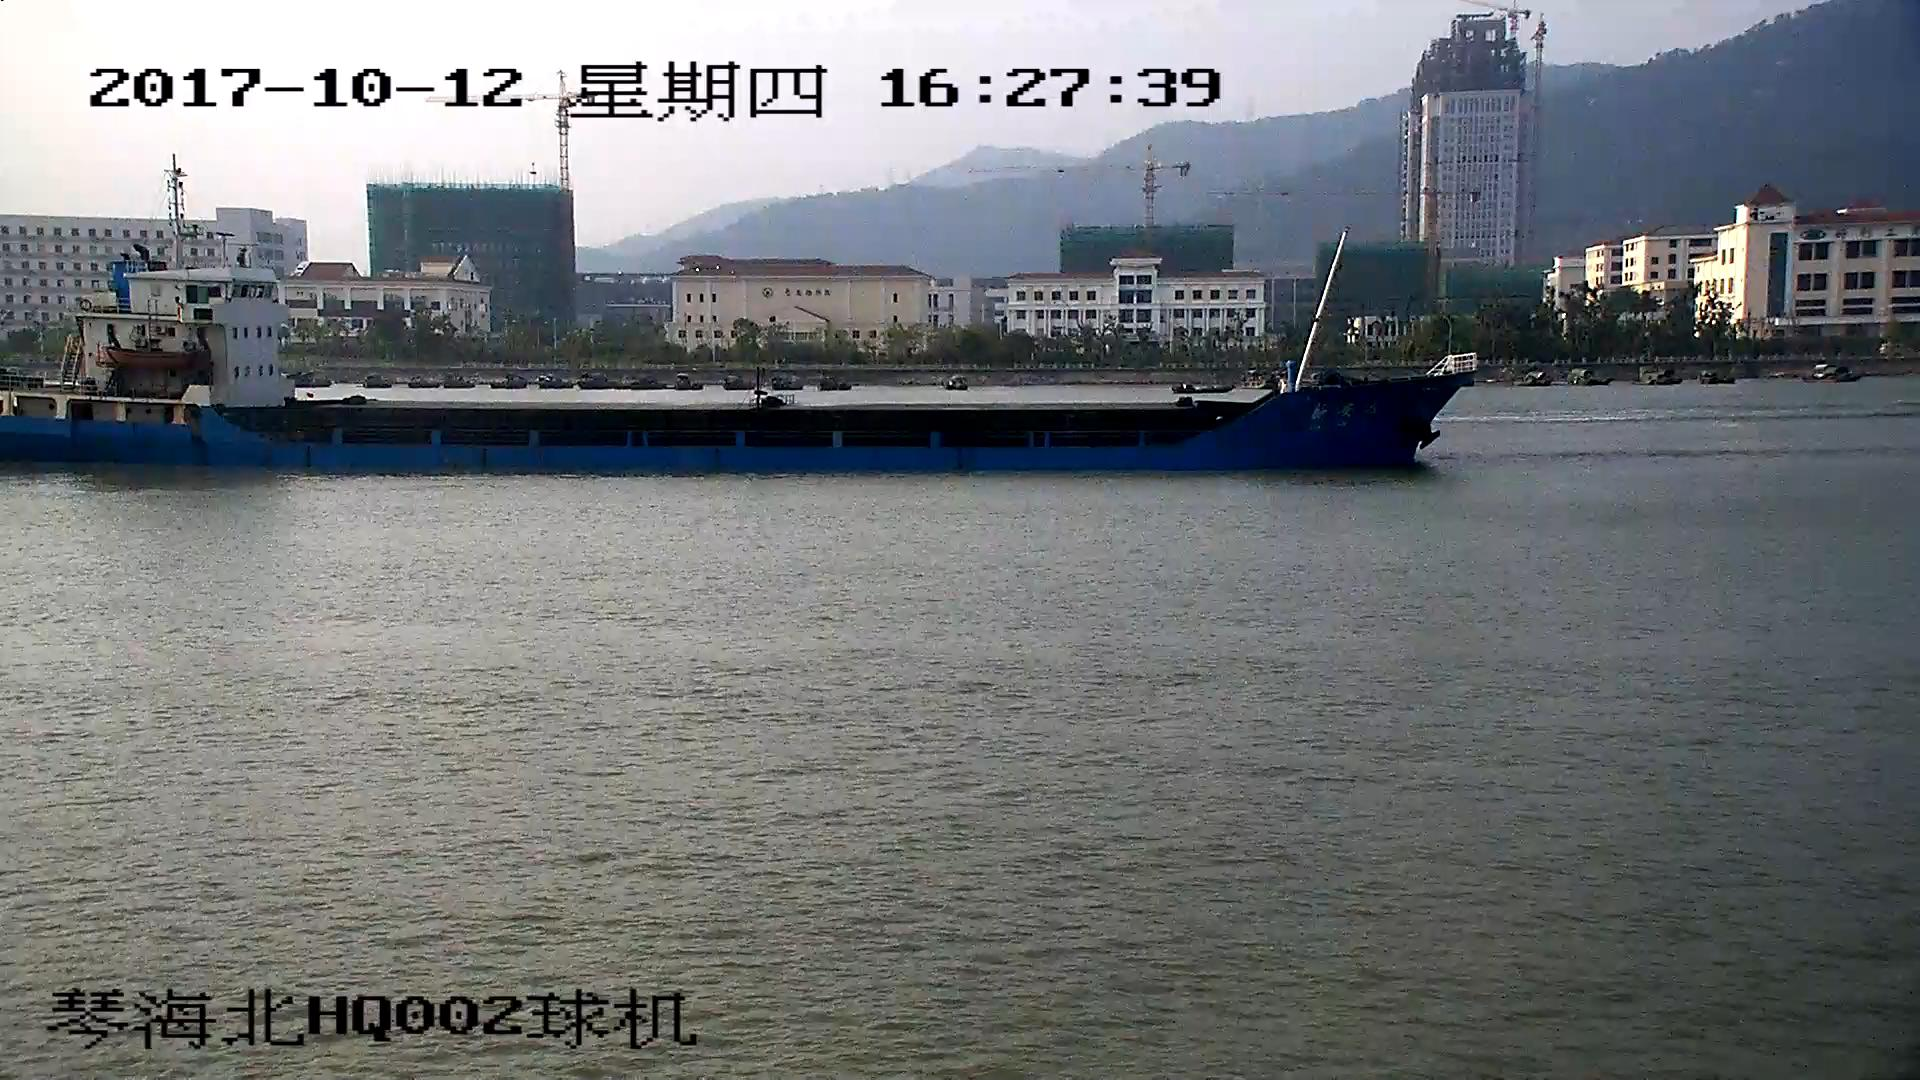general cargo ship: (1, 169, 1474, 472)
